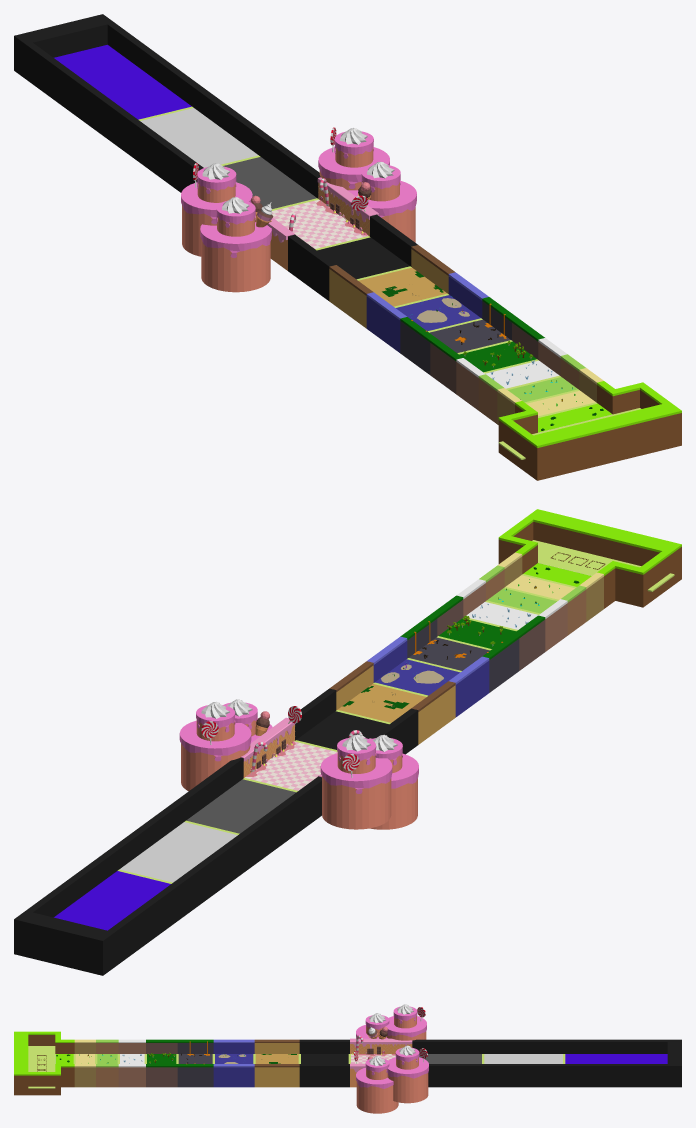
File: Map RC 69 ver 3.fbx
3 views of the same model, one above another, from view 1: azimuth 30°, elevation 25°; view 2: azimuth 150°, elevation 25°; view 3: azimuth 270°, elevation 25° (orthographic). The views are drawn at different scales.
Visible parts, largest first — view 1: Base_Tuong, Base_San, Vung_9; view 2: Base_Tuong, Base_San, Vung_9; view 3: Base_Tuong, Vung_9, Base_San.
Part boxes in pixels (x1=…): Base_Tuong: x1=14, y1=14, x2=681, y2=480; Base_San: x1=54, y1=44, x2=640, y2=459; Vung_9: x1=181, y1=127, x2=416, y2=292; Base_Tuong: x1=14, y1=509, x2=681, y2=975; Base_San: x1=54, y1=540, x2=674, y2=930; Vung_9: x1=179, y1=699, x2=418, y2=829; Base_Tuong: x1=14, y1=1031, x2=681, y2=1095; Vung_9: x1=350, y1=1004, x2=428, y2=1113; Base_San: x1=28, y1=1046, x2=667, y2=1088.
Bounding box in the file's own units: 2690 × 1197 × 12410.
